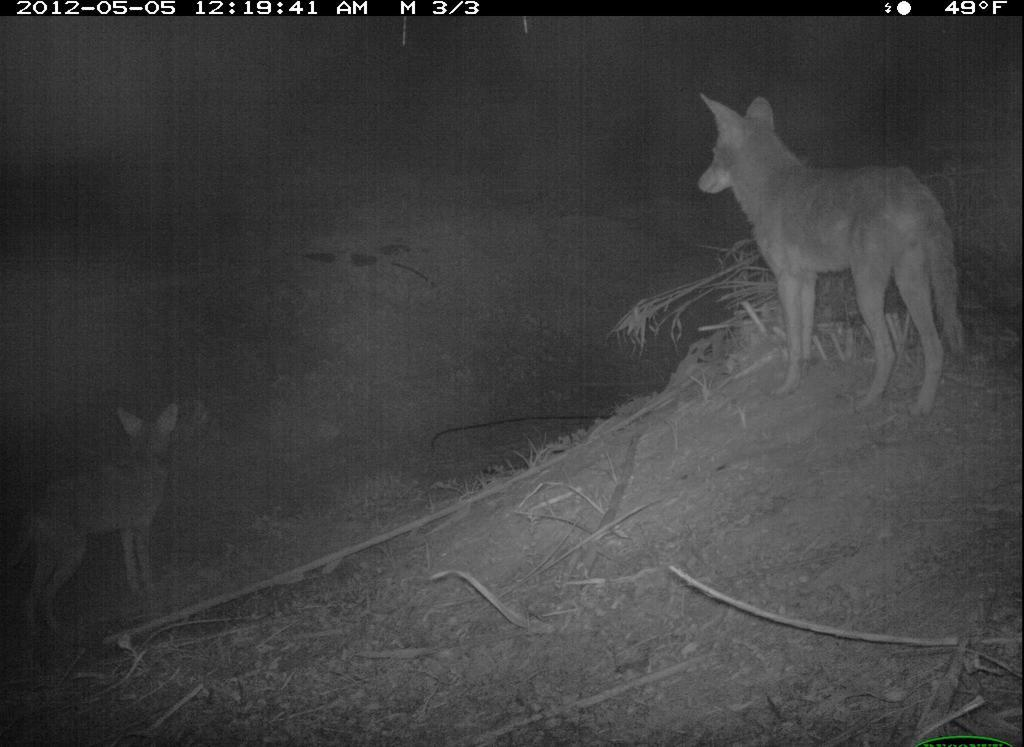coyote: (689, 89, 967, 419), (12, 376, 198, 641)
